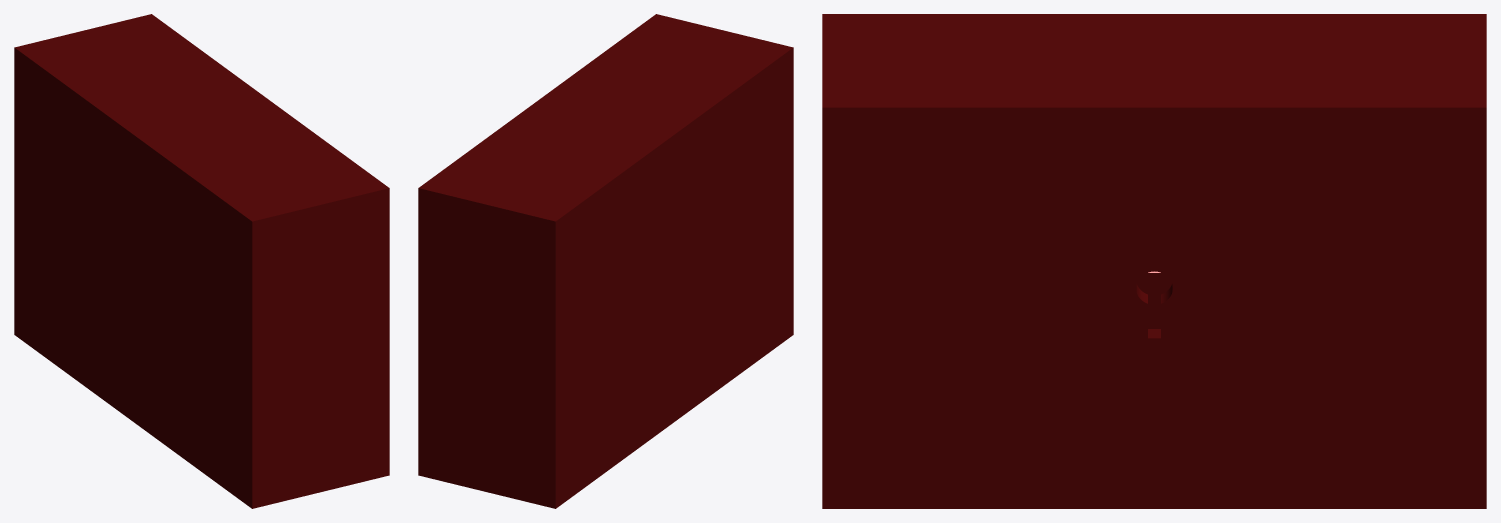
The model's file is serrure.gltf.
The picture shows the model from 3 angles, left to right: view 1: azimuth 30°, elevation 25°; view 2: azimuth 150°, elevation 25°; view 3: azimuth 270°, elevation 25°; orthographic projection. The views are drawn at different scales.
Parts seen in each view (by area): view 1: coffre; view 2: coffre; view 3: coffre.
Boxes of the visible parts, <box> form: coffre: <box>14,14,389,508</box>; coffre: <box>418,14,793,508</box>; coffre: <box>822,14,1486,508</box>.
Size of the model in its own units: 0.1 by 0.2 by 0.3.
